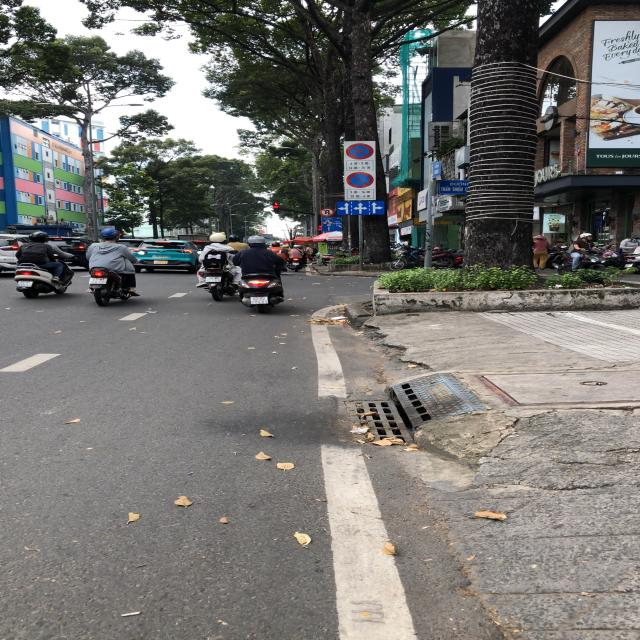Bien bao cam do xe: (346, 172, 376, 188)
Bien bao cam dung xe va do xe: (344, 142, 377, 161)
Bien bao cam quay dau xe: (317, 207, 335, 217)
